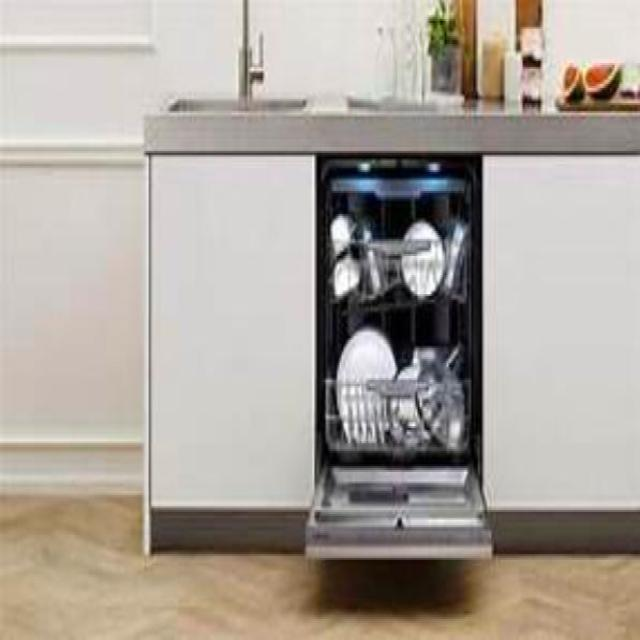dishwasher: (307, 147, 494, 560)
